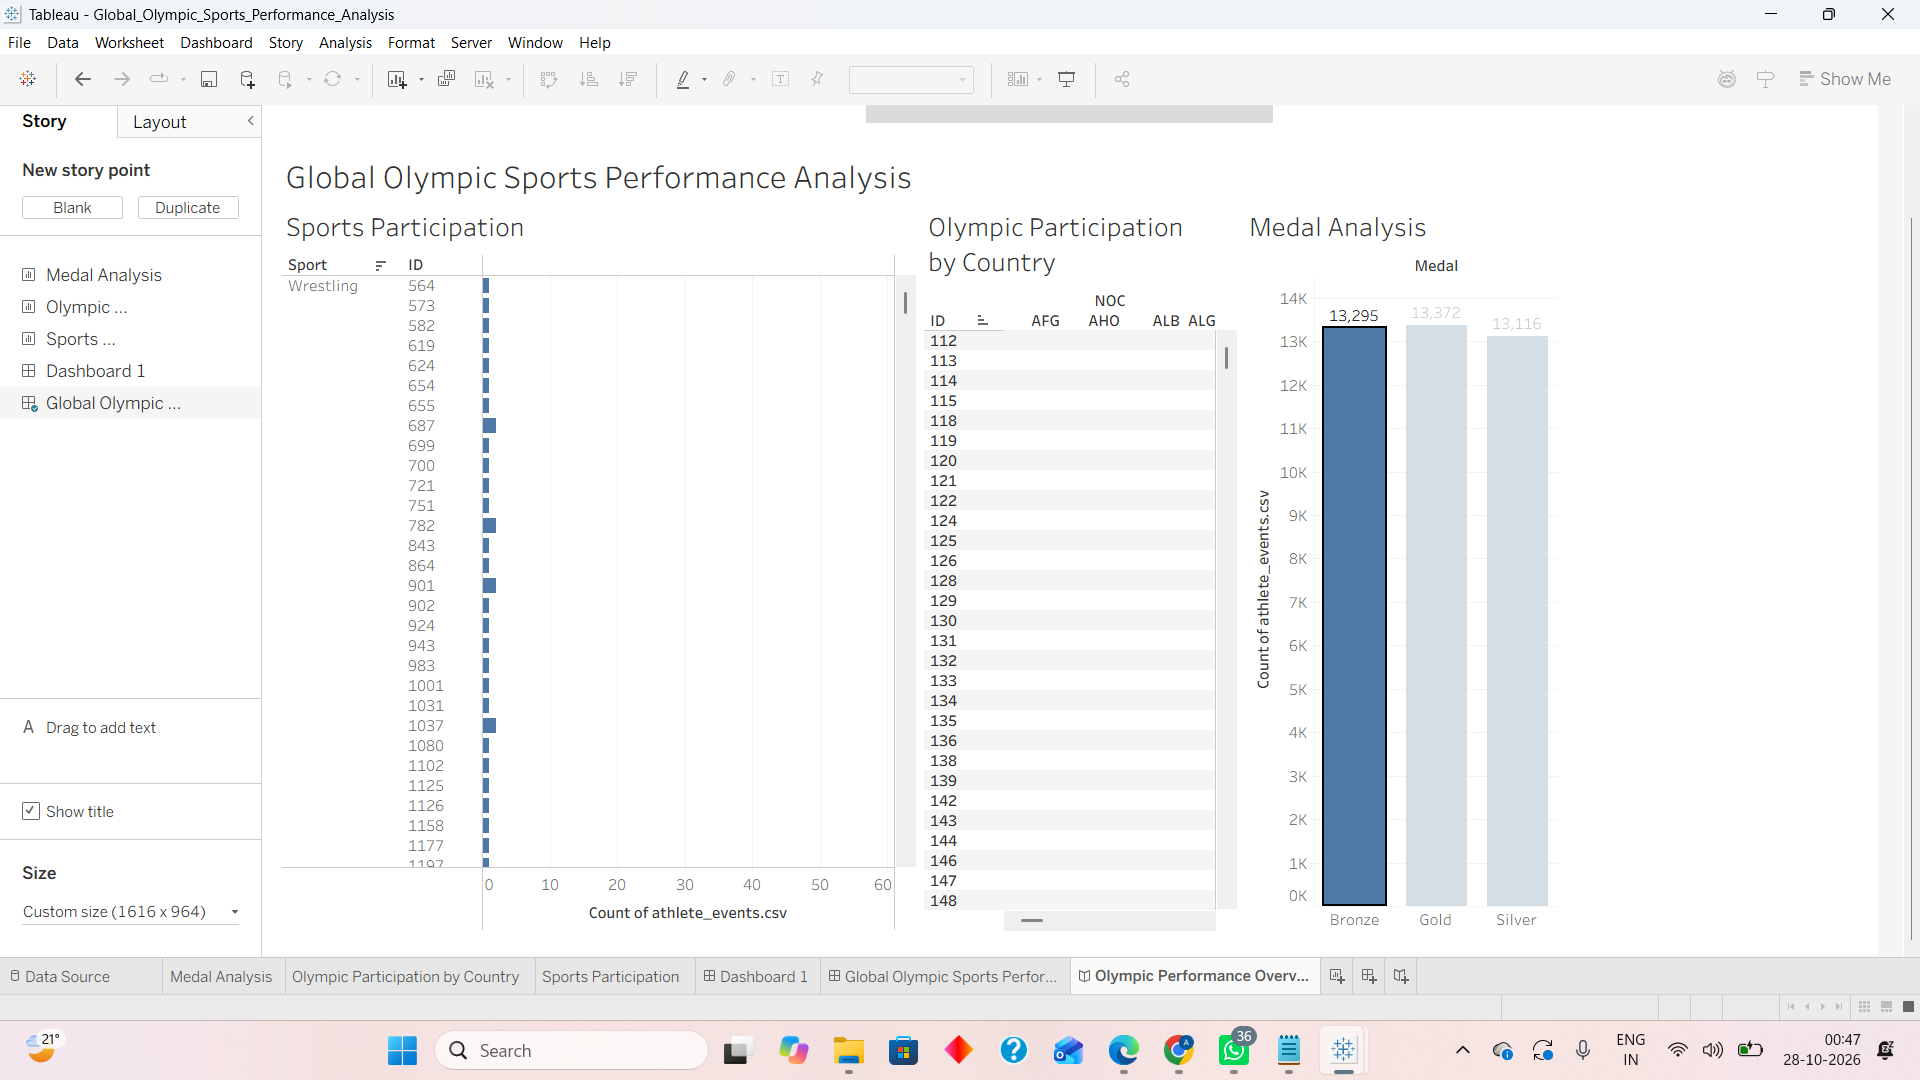

Layout of this report page (visuals, bound fields, positions):
{"tool":"tableau","page":{"name":"Global Olympic Sports Performance Analysis","canvas":[1300,800],"ordinal":1},"visuals":[{"type":"title","box":[8,8,1284,50]},{"type":"worksheet","title":"Sports Participation","mark":"Automatic","rows":["Sport","ID"],"cols":["athlete_events.csv_FB1EA0EEACA34B78A750AEEA29B1D587"],"box":[8,58,642,734]},{"type":"worksheet","title":"Olympic Participation by Country","mark":"Automatic","rows":["ID"],"cols":["NOC"],"box":[650,58,321,734]},{"type":"worksheet","title":"Medal Analysis","mark":"Automatic","rows":["athlete_events.csv_FB1EA0EEACA34B78A750AEEA29B1D587"],"cols":["Medal"],"box":[971,58,321,734]}]}

Visuals, with their boxes on the page's 1300x800 design canvas (x1, y1, x2, y2). These are canvas units, not pixel positions in the 1920x1080 screenshot, which may show the page scaled, cropped or inside an application window:
title: (left=8, top=8, right=1292, bottom=58)
"Sports Participation" worksheet: (left=8, top=58, right=650, bottom=792)
"Olympic Participation by Country" worksheet: (left=650, top=58, right=971, bottom=792)
"Medal Analysis" worksheet: (left=971, top=58, right=1292, bottom=792)
